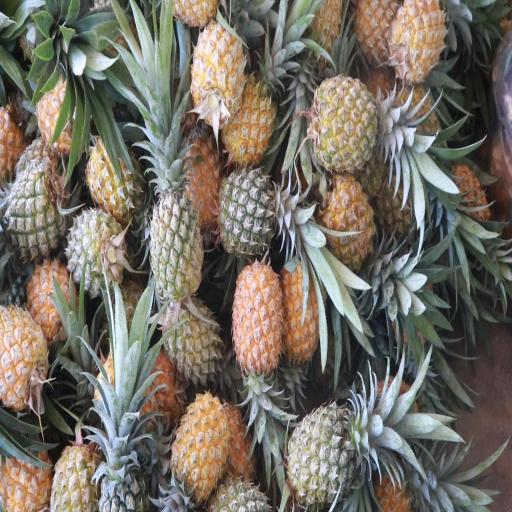------------------------------: (141, 145, 199, 296), (311, 68, 382, 172), (156, 293, 224, 393), (84, 128, 146, 214), (21, 260, 74, 357)
Pineapple - v8 v1: (166, 398, 236, 502), (229, 259, 284, 383), (185, 8, 244, 119), (219, 54, 274, 165), (280, 252, 331, 368), (166, 113, 217, 225), (324, 166, 378, 268), (0, 312, 45, 418), (391, 3, 444, 84), (0, 433, 50, 512), (52, 440, 99, 512)
